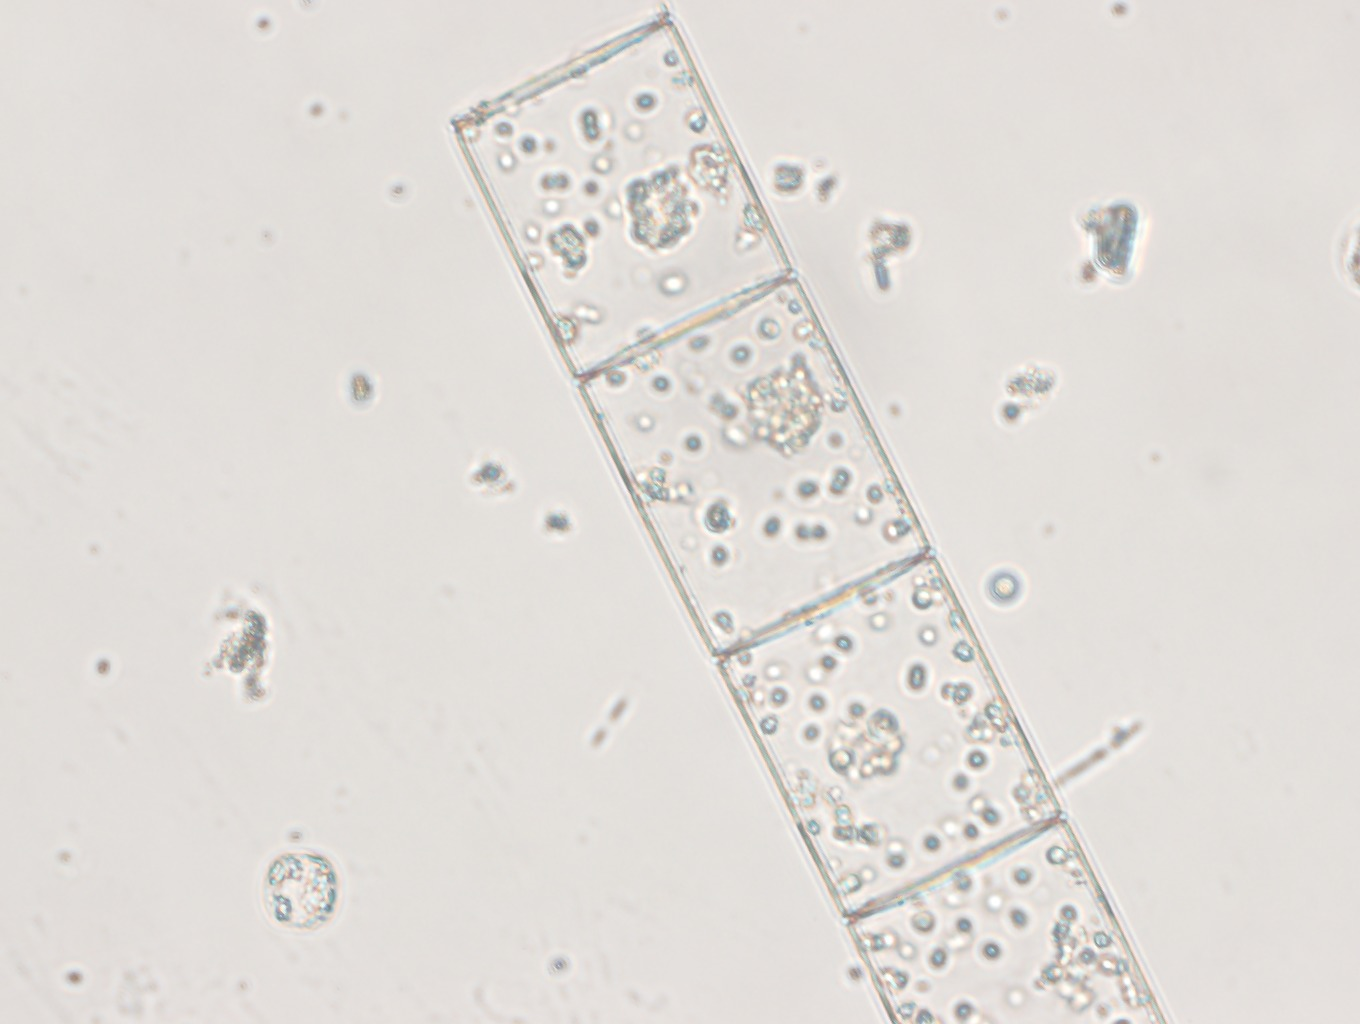guinardia flaccida: (434, 8, 1164, 1020)
